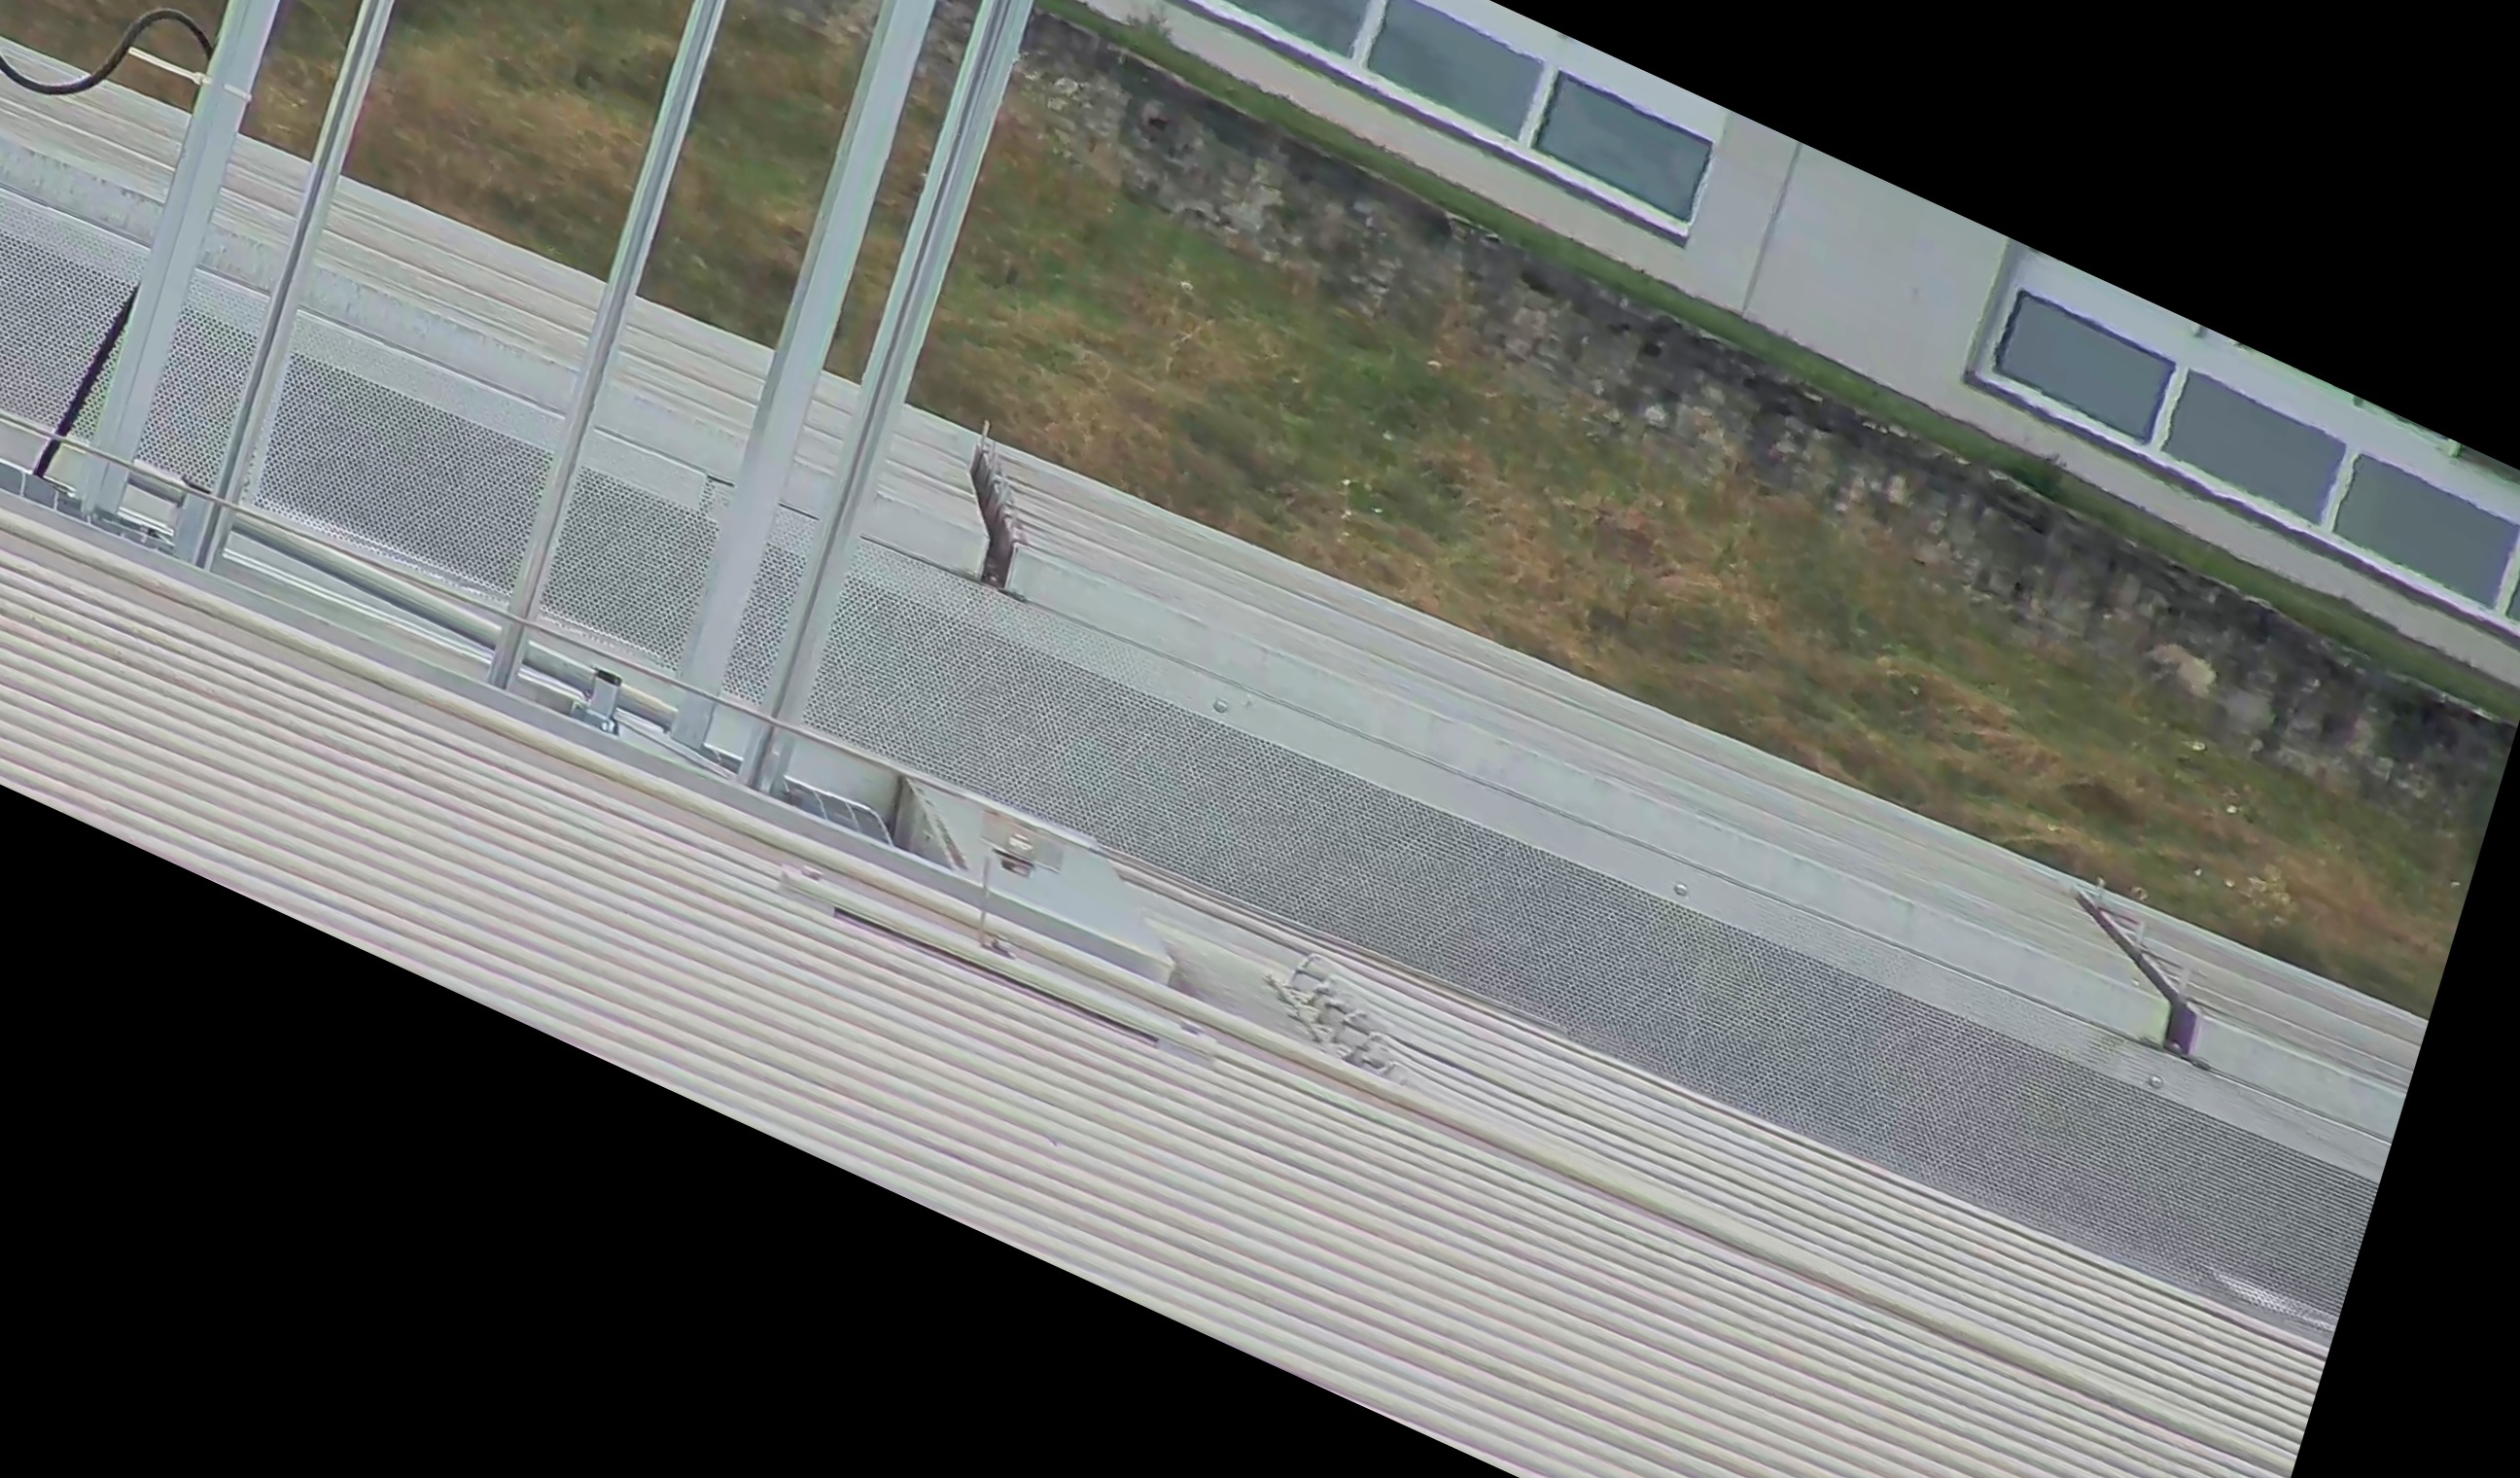Other: (909, 406, 1078, 618)
